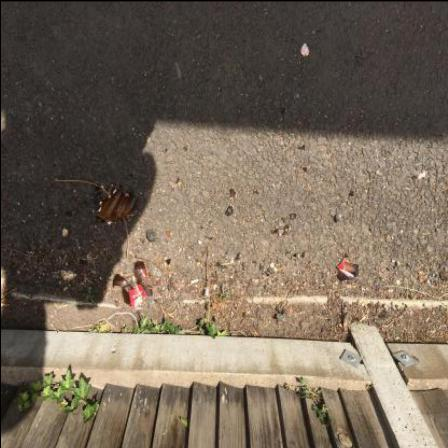Broken glass: (95, 183, 140, 224), (112, 261, 152, 307), (336, 262, 359, 281), (272, 228, 288, 236), (95, 193, 103, 207), (25, 243, 36, 253), (95, 183, 103, 196), (225, 205, 233, 217), (355, 56, 363, 64), (230, 189, 236, 198), (350, 189, 355, 197), (297, 144, 305, 149), (291, 214, 297, 220), (165, 259, 171, 265), (334, 215, 338, 223), (377, 286, 382, 292), (254, 190, 260, 195), (284, 225, 290, 230), (301, 251, 305, 257), (166, 231, 170, 237), (182, 147, 188, 151), (412, 176, 418, 180), (303, 167, 307, 171), (293, 254, 297, 258), (253, 261, 258, 263), (283, 218, 285, 222)
Cigarette: (191, 279, 199, 284)
Unlabeled litter: (301, 43, 309, 55)
